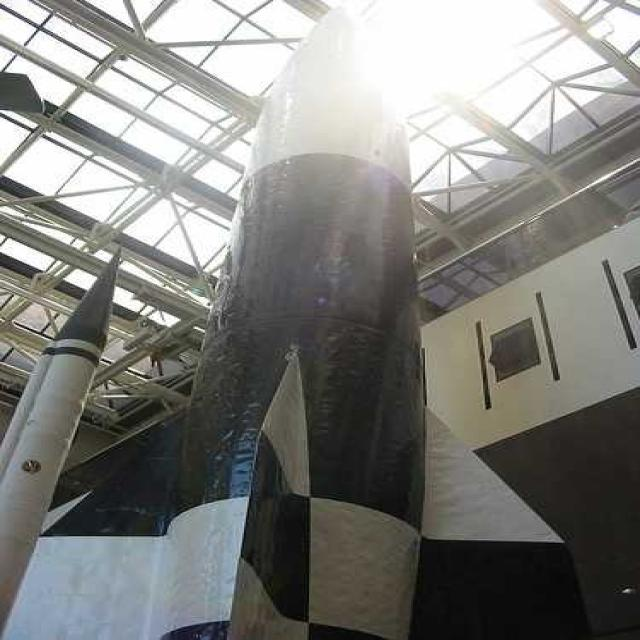missile: (23, 15, 585, 640), (0, 241, 122, 640)
